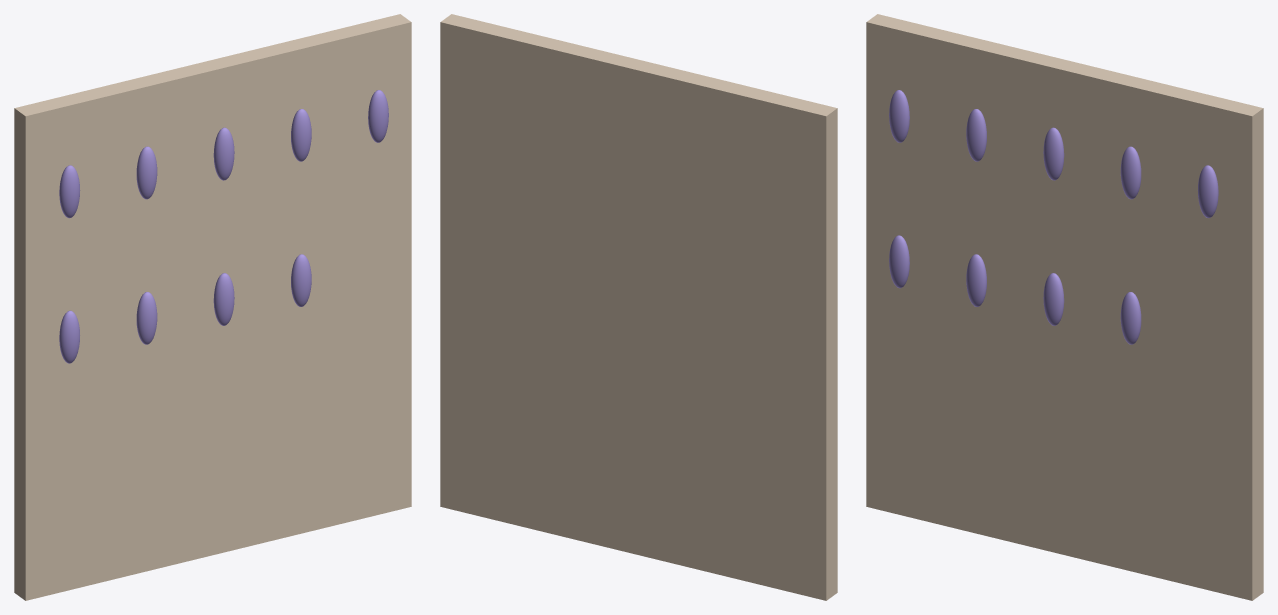
Rendered from wall.gltf.
3 views of the same model, side by side, from view 1: azimuth 30°, elevation 25°; view 2: azimuth 150°, elevation 25°; view 3: azimuth 330°, elevation 25° (orthographic).
Visible parts, largest first — view 1: surface, droplet_1, droplet_2, droplet_6, droplet_4, droplet_5, droplet_8, droplet_7, droplet_0, droplet_3; view 2: surface; view 3: surface, droplet_3, droplet_2, droplet_8, droplet_0, droplet_6, droplet_7, droplet_4, droplet_5, droplet_1.
Boxes of the visible parts, x1,y1,x2,y2 form: surface: (14, 14, 411, 600); droplet_1: (136, 146, 157, 199); droplet_2: (213, 127, 234, 180); droplet_6: (136, 292, 157, 344); droplet_4: (368, 90, 388, 142); droplet_5: (59, 310, 79, 363); droplet_8: (291, 254, 311, 306); droplet_7: (213, 273, 234, 325); droplet_0: (59, 165, 80, 218); droplet_3: (291, 109, 311, 161); surface: (440, 14, 837, 600); surface: (866, 14, 1263, 600); droplet_3: (1120, 146, 1141, 199); droplet_2: (1043, 127, 1064, 180); droplet_8: (1120, 292, 1141, 344); droplet_0: (889, 90, 909, 142); droplet_6: (966, 254, 986, 306); droplet_7: (1043, 273, 1064, 325); droplet_4: (1197, 165, 1218, 218); droplet_5: (889, 235, 909, 288); droplet_1: (966, 109, 986, 161).
Size of the model in its own units: 0.5 by 0.6 by 0.0465.
